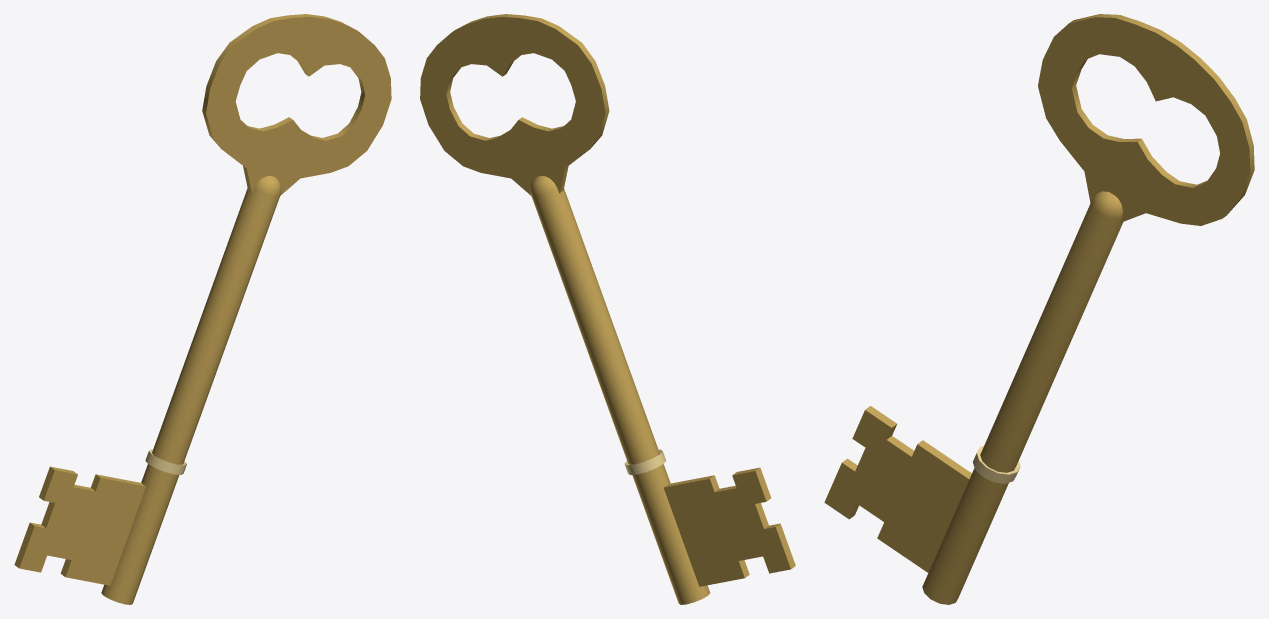
Rendered from Key_21.fbx.
3 renders of one model, left to right at view 1: azimuth 30°, elevation 25°; view 2: azimuth 150°, elevation 25°; view 3: azimuth 330°, elevation 25°, orthographic. The views are drawn at different scales.
Visible parts, largest first — view 1: Key21.001; view 2: Key21.001; view 3: Key21.001.
Part boxes in pixels (x1,y1,x2,y2): Key21.001: [14, 14, 391, 604]; Key21.001: [420, 14, 795, 604]; Key21.001: [824, 14, 1254, 604].
Size of the model in its own units: 0.9753 by 1.37 by 0.0924.
